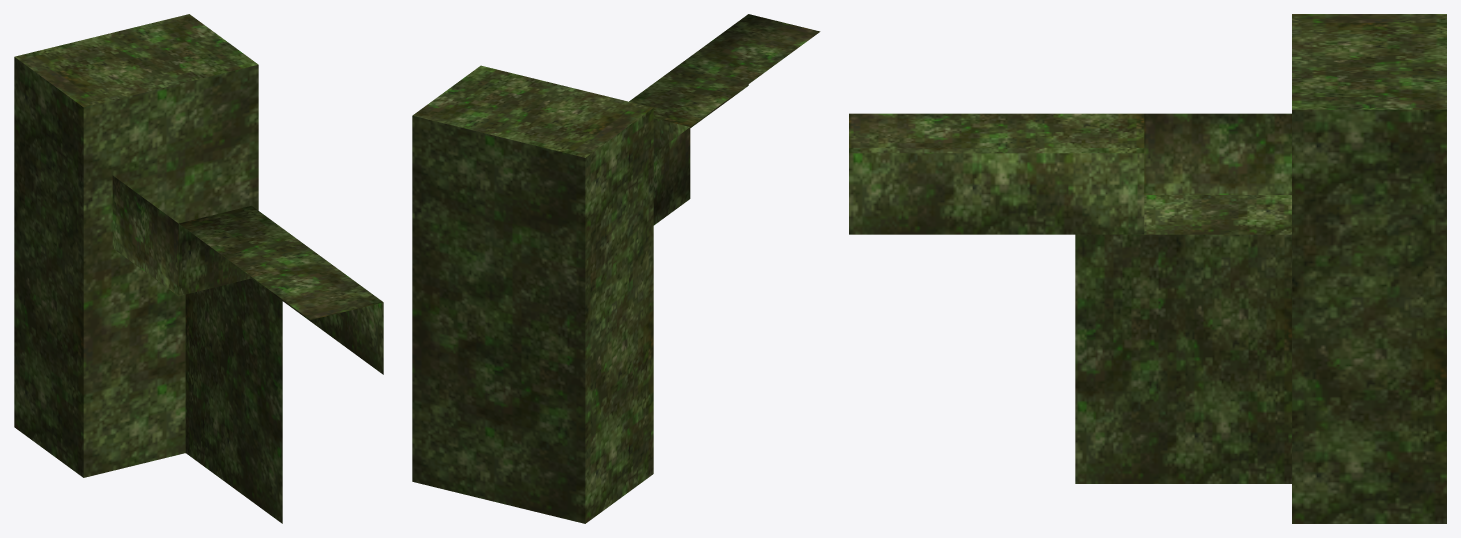
File: OVERHILL_A_01_OBJECT210.fbx
3 renders of one model, left to right at view 1: azimuth 30°, elevation 25°; view 2: azimuth 150°, elevation 25°; view 3: azimuth 270°, elevation 25°, orthographic. The views are drawn at different scales.
Parts seen in each view (by area): view 1: OVERHILL_A_01_OBJECT210; view 2: OVERHILL_A_01_OBJECT210; view 3: OVERHILL_A_01_OBJECT210.
Part boxes in pixels (<box>): OVERHILL_A_01_OBJECT210: <box>14,14,383,523</box>; OVERHILL_A_01_OBJECT210: <box>412,14,820,523</box>; OVERHILL_A_01_OBJECT210: <box>849,14,1446,523</box>.
Bounding box in the file's own units: 17912 × 36219 × 47345.
Materials: 1 (1 with a texture image).
